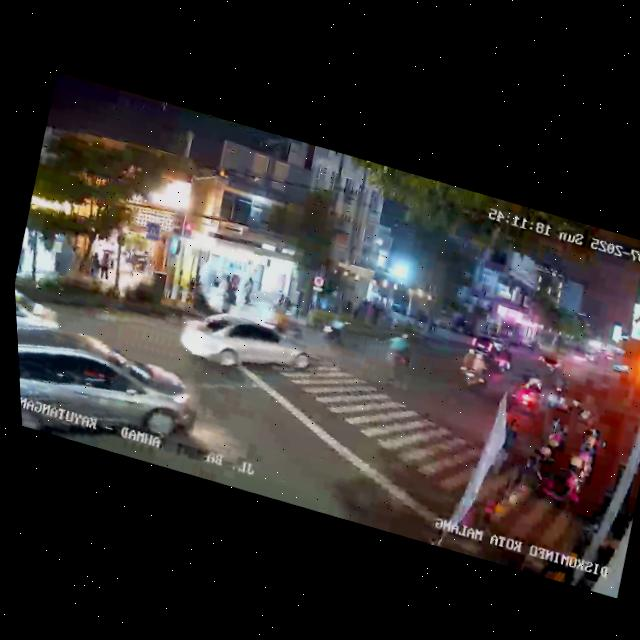car: (16, 313, 208, 473), (172, 299, 317, 397), (467, 332, 516, 374), (609, 361, 631, 379)
motorcycle: (453, 345, 495, 395), (380, 328, 419, 377), (542, 377, 574, 416), (319, 312, 352, 349)
person: (492, 399, 529, 457), (218, 279, 241, 315), (85, 247, 105, 282), (14, 235, 31, 276), (239, 274, 258, 308), (96, 249, 115, 283)
